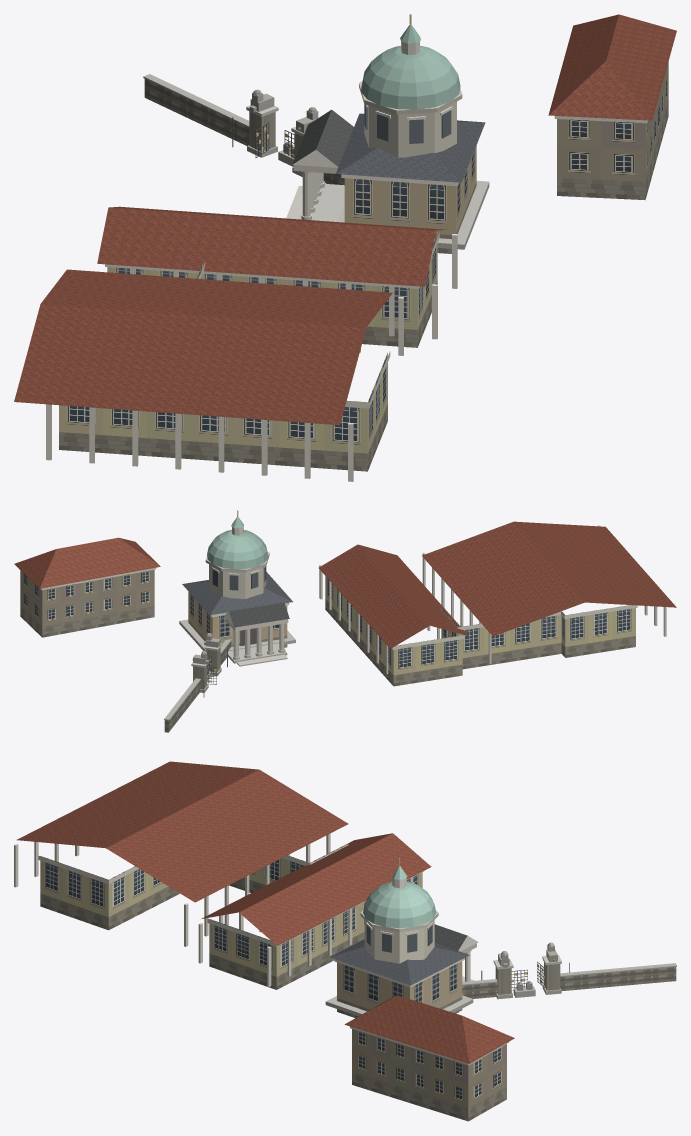
The model's file is k93_krematorium.glb.
The picture shows the model from 3 angles, top to bottom: view 1: azimuth 30°, elevation 25°; view 2: azimuth 150°, elevation 25°; view 3: azimuth 270°, elevation 25°; orthographic projection. The views are drawn at different scales.
Bounding box in the file's own units: 91.71 × 21.33 × 83.08.
11 materials, 8 textured.
